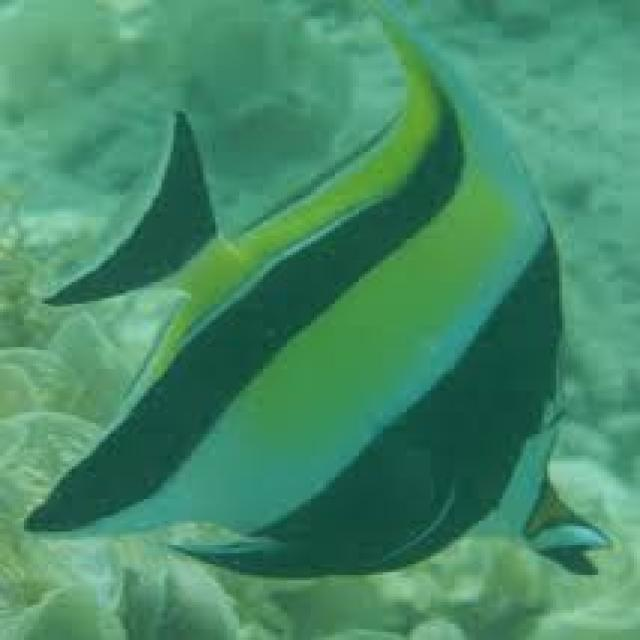MorishIdol: (21, 0, 613, 580)
